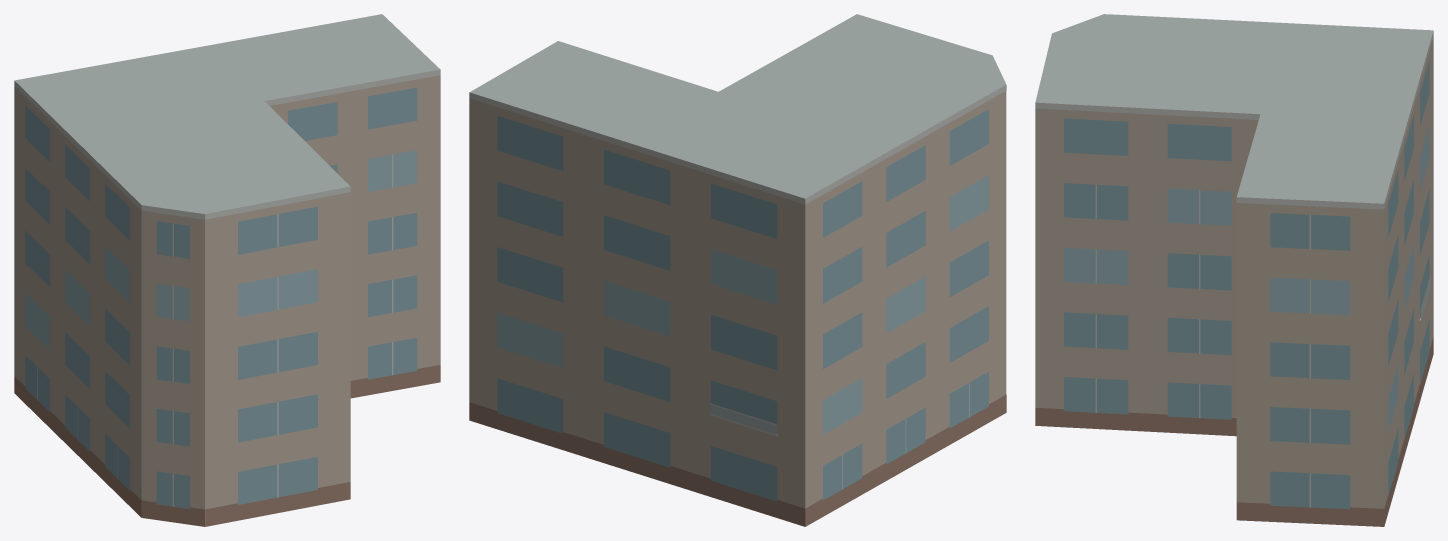
The model's file is survey-upis-32872959.glb.
3 views of the same model, side by side, from view 1: azimuth 30°, elevation 25°; view 2: azimuth 150°, elevation 25°; view 3: azimuth 270°, elevation 25° (orthographic). The views are drawn at different scales.
Visible parts, largest first — view 1: survey-upis-32872959.tmp; view 2: survey-upis-32872959.tmp; view 3: survey-upis-32872959.tmp.
Boxes of the visible parts, left/top/right/bottom form: survey-upis-32872959.tmp: left=14, top=14, right=440, bottom=526; survey-upis-32872959.tmp: left=469, top=14, right=1006, bottom=526; survey-upis-32872959.tmp: left=1035, top=14, right=1433, bottom=526.
Bounding box in the file's own units: 17.01 × 13.5 × 15.09.
